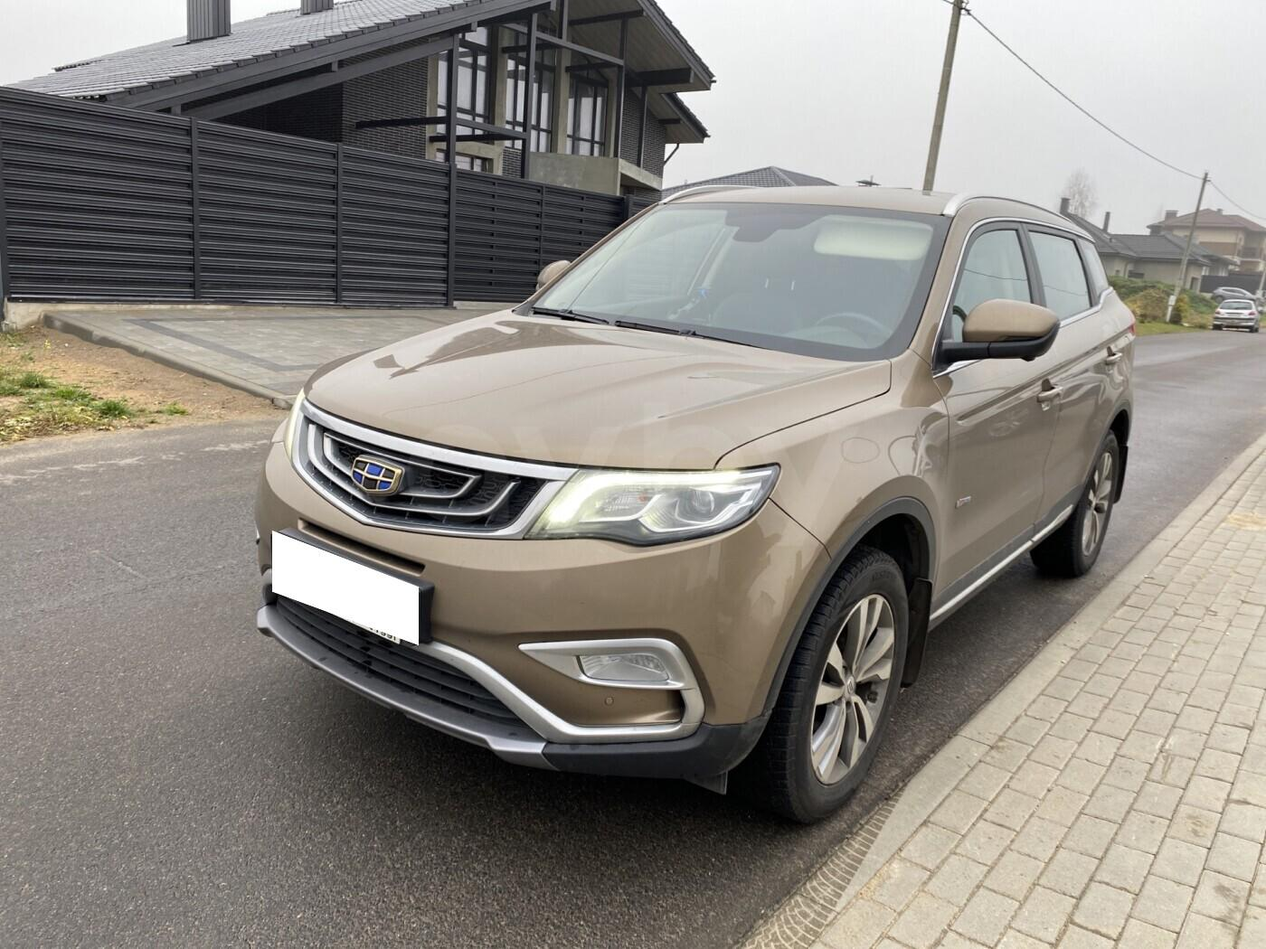Atlas_2016-2023: (249, 173, 1137, 834)
